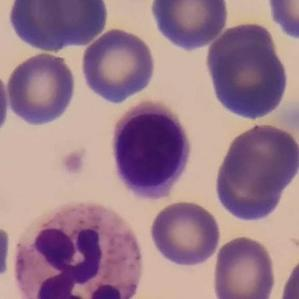Lymphocyte: (105, 96, 197, 205)
Neutrophil: (0, 194, 147, 299)
Platelets: (58, 148, 89, 177)
RBC: (202, 17, 293, 125), (210, 119, 297, 223), (78, 26, 158, 104), (3, 50, 78, 128), (148, 198, 223, 269), (210, 233, 278, 299), (147, 0, 230, 52), (4, 0, 82, 54), (38, 0, 111, 49), (264, 0, 299, 42), (275, 248, 299, 299)
